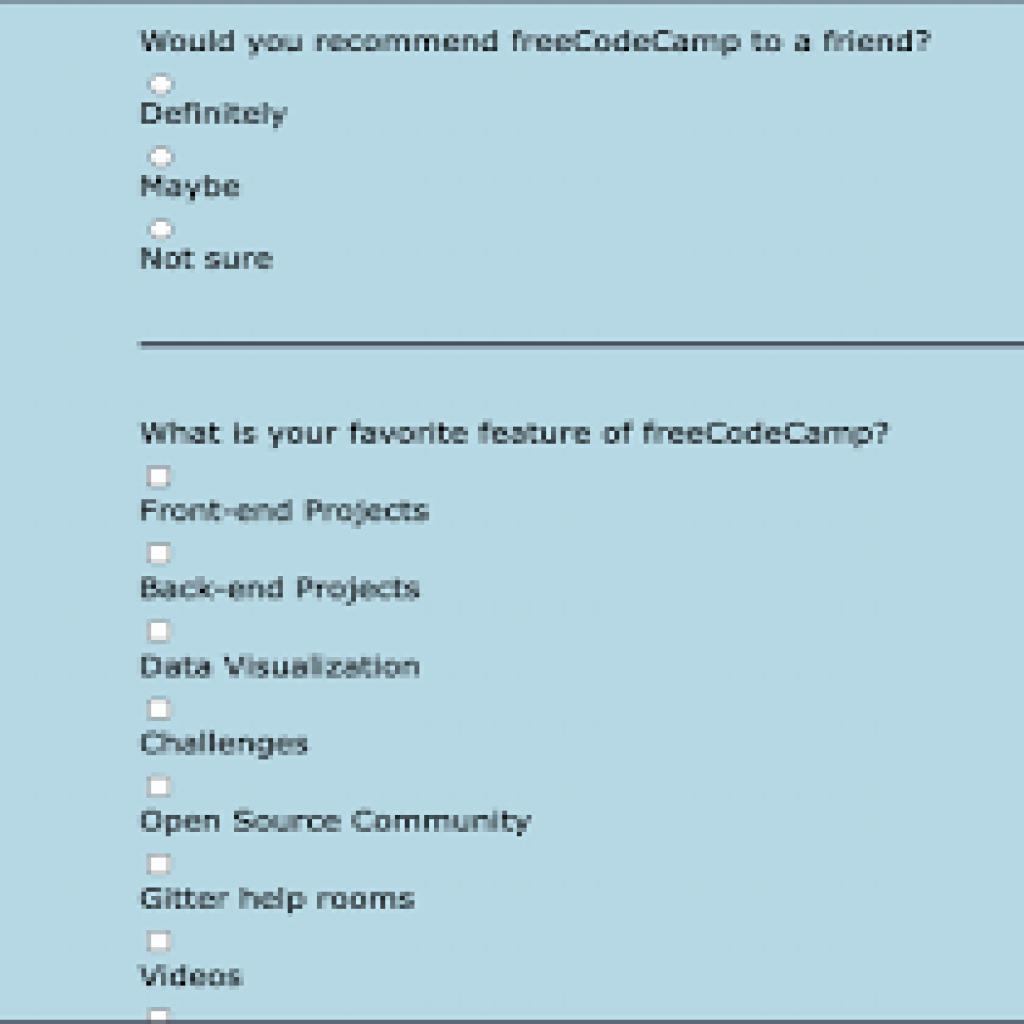checkbox: (146, 544, 175, 567), (146, 696, 172, 719), (148, 466, 171, 490), (150, 855, 171, 878), (149, 622, 169, 643), (151, 934, 173, 953), (151, 779, 173, 795)
label: (137, 22, 939, 62), (141, 418, 898, 454), (138, 808, 542, 839), (138, 494, 439, 532), (141, 882, 424, 920), (140, 572, 423, 607), (142, 650, 425, 685), (138, 725, 317, 764), (140, 96, 294, 134), (140, 240, 282, 279), (134, 957, 253, 994), (133, 171, 246, 206)
radio: (147, 73, 181, 99), (149, 144, 178, 172), (149, 219, 178, 242)
